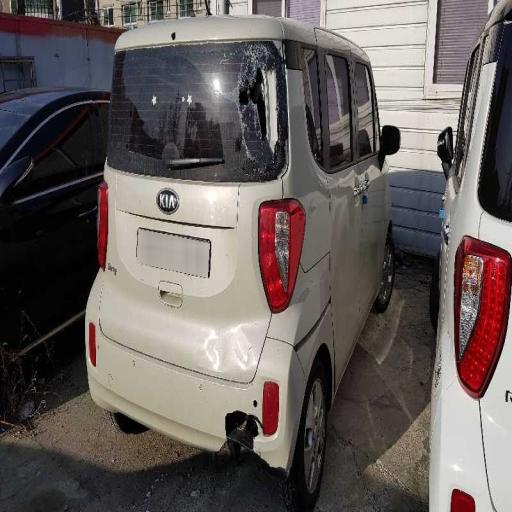dent: (172, 292, 282, 406)
scratch: (209, 38, 303, 190)
